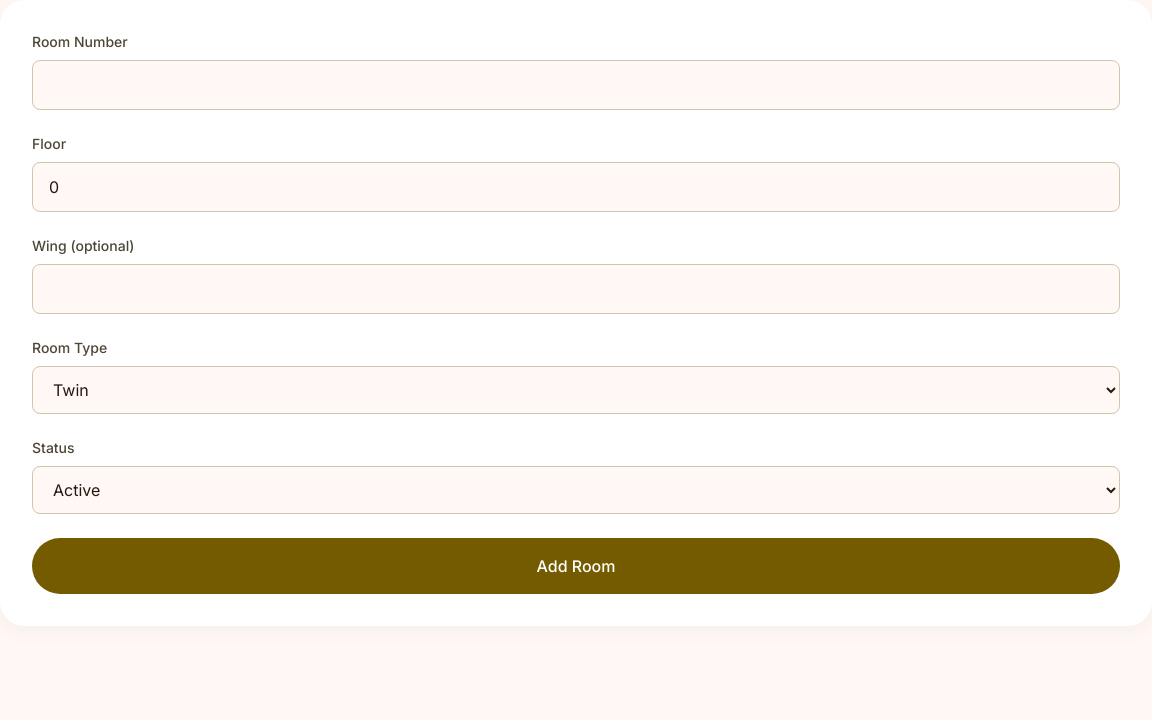
Scenario: RoomForm › shows an error when saving rejects
Type "101" into the field labelled "Room Number".
click(576, 85); type("101")  # box [32,60,1120,110]
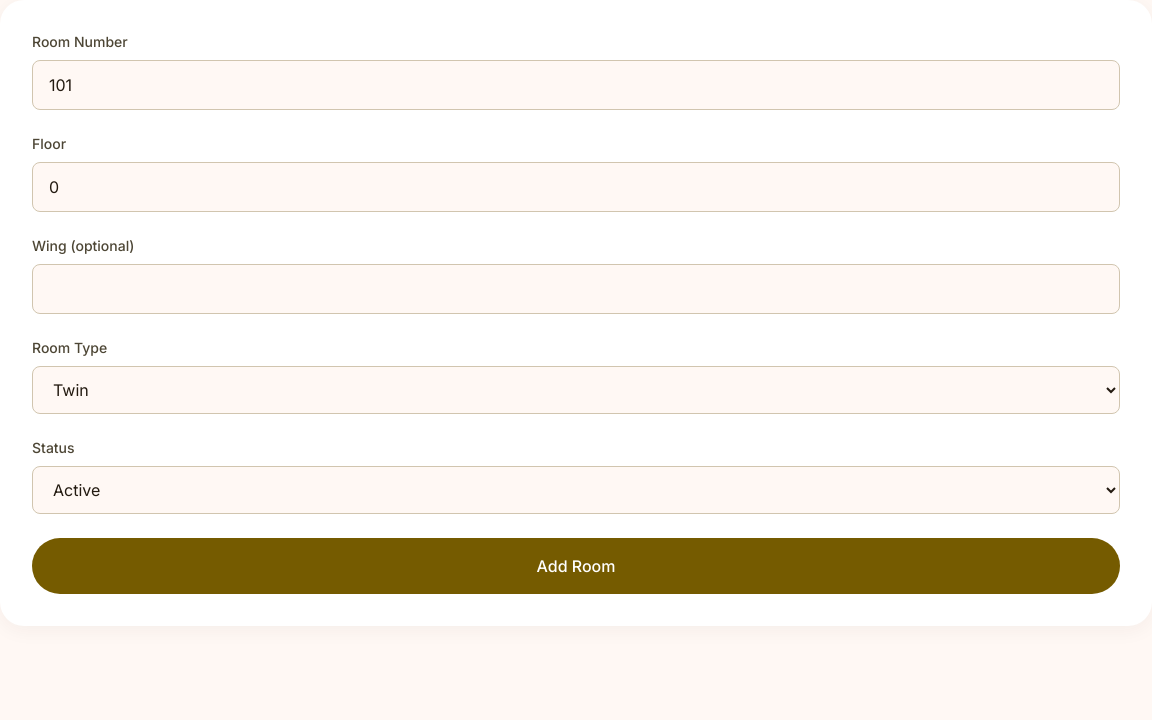
Click the button "Add Room".
click(576, 566)  # box [32,538,1120,594]
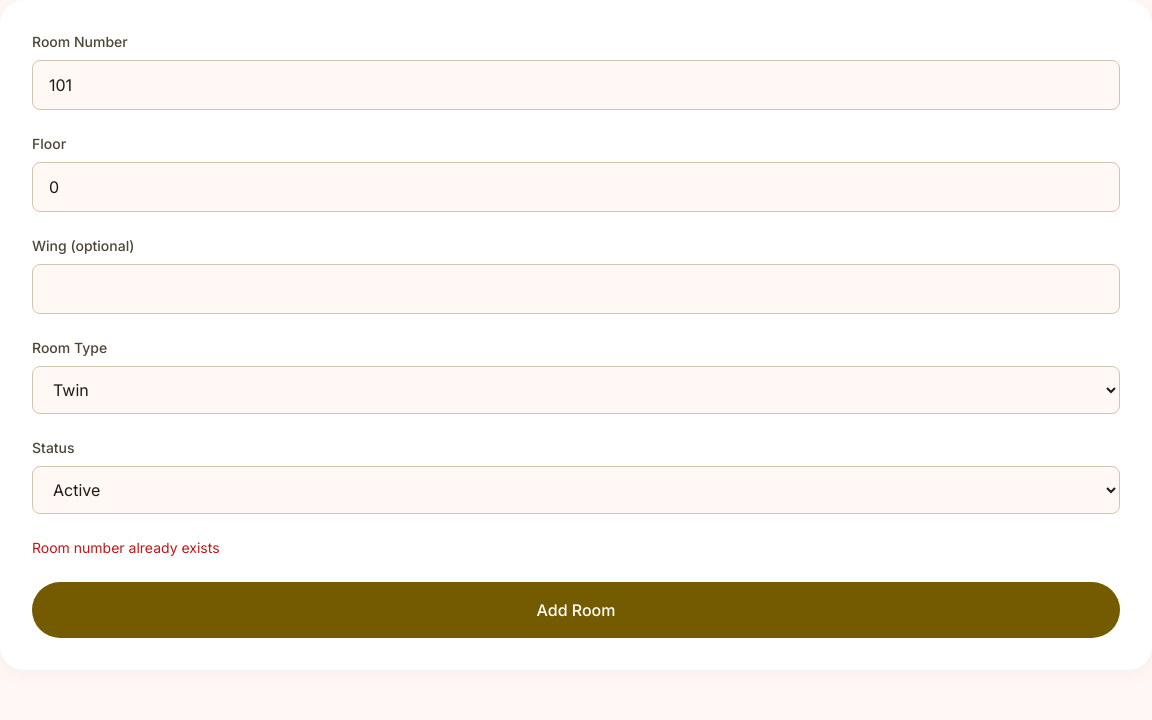
Expected: the text "Room number already exists" is shown, [32,539,220,556]
